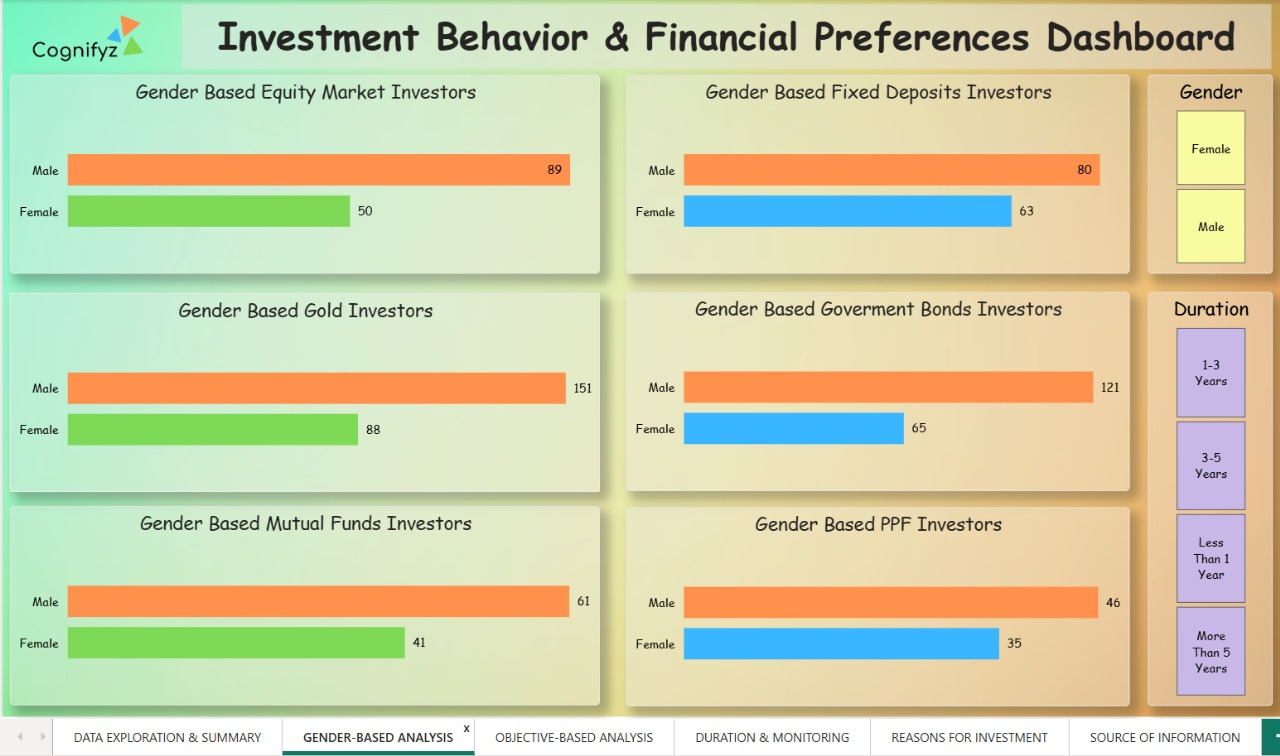

Layout of this report page (visuals, bound fields, positions):
{"tool":"powerbi","page":{"name":"GENDER-BASED ANALYSIS","canvas":[1280,720],"ordinal":1},"visuals":[{"type":"slicer","title":"Gender","fields":{"Values":["Data.gender"]},"box":[1145.7,74.6,124.7,199.3],"z":0},{"type":"clusteredBarChart","title":"Gender Based Equity Market Investors","fields":{"Y":["Data.EquityMarket Investors"],"Category":["Data.gender"]},"box":[7.3,74.2,590.6,199.3],"z":1000},{"type":"textbox","box":[179.7,3.7,1090.7,64.8],"z":2000},{"type":"image","box":[7.3,8.6,156.5,59.9],"z":3000},{"type":"clusteredBarChart","title":"Gender Based Gold Investors","fields":{"Y":["Data.Gold Investors"],"Category":["Data.gender"]},"box":[7.3,293.1,590.6,199.3],"z":4000},{"type":"clusteredBarChart","title":"Gender Based Mutual Funds Investors","fields":{"Y":["Data.MutualFunds Investors"],"Category":["Data.gender"]},"box":[7.3,507.1,590.6,199.3],"z":5000},{"type":"clusteredBarChart","title":"Gender Based Fixed Deposits Investors","fields":{"Y":["Data.FixedDeposits Investors"],"Category":["Data.gender"]},"box":[623.6,74.8,503.8,199.3],"z":6000},{"type":"clusteredBarChart","title":"Gender Based Goverment Bonds Investors","fields":{"Y":["Data.GovernmentBonds Investors"],"Category":["Data.gender"]},"box":[623.6,292.4,503.8,199.3],"z":7000},{"type":"clusteredBarChart","title":"Gender Based PPF Investors","fields":{"Y":["Data.PPF Investors"],"Category":["Data.gender"]},"box":[623.6,507.7,503.8,199.3],"z":8000},{"type":"slicer","title":"Duration","fields":{"Values":["Data.Duration"]},"box":[1145.7,292.2,124.7,414.5],"z":9000}]}

Visuals, with their boxes on the page's 1280x720 design canvas (x1, y1, x2, y2). These are canvas units, not pixel positions in the 1280x756 screenshot, which may show the page scaled, cropped or inside an application window:
"Gender" slicer: 1146,75,1270,274
"Gender Based Equity Market Investors" clusteredBarChart: 7,74,598,274
textbox: 180,4,1270,68
image: 7,9,164,68
"Gender Based Gold Investors" clusteredBarChart: 7,293,598,492
"Gender Based Mutual Funds Investors" clusteredBarChart: 7,507,598,706
"Gender Based Fixed Deposits Investors" clusteredBarChart: 624,75,1127,274
"Gender Based Goverment Bonds Investors" clusteredBarChart: 624,292,1127,492
"Gender Based PPF Investors" clusteredBarChart: 624,508,1127,707
"Duration" slicer: 1146,292,1270,707
